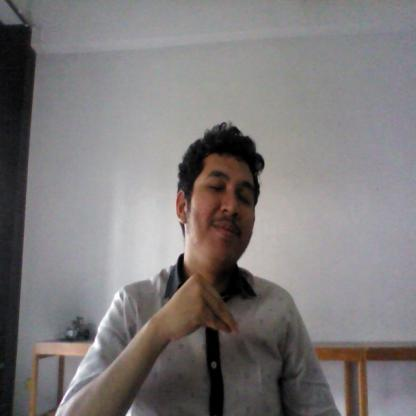Malam: (142, 267, 244, 358)
